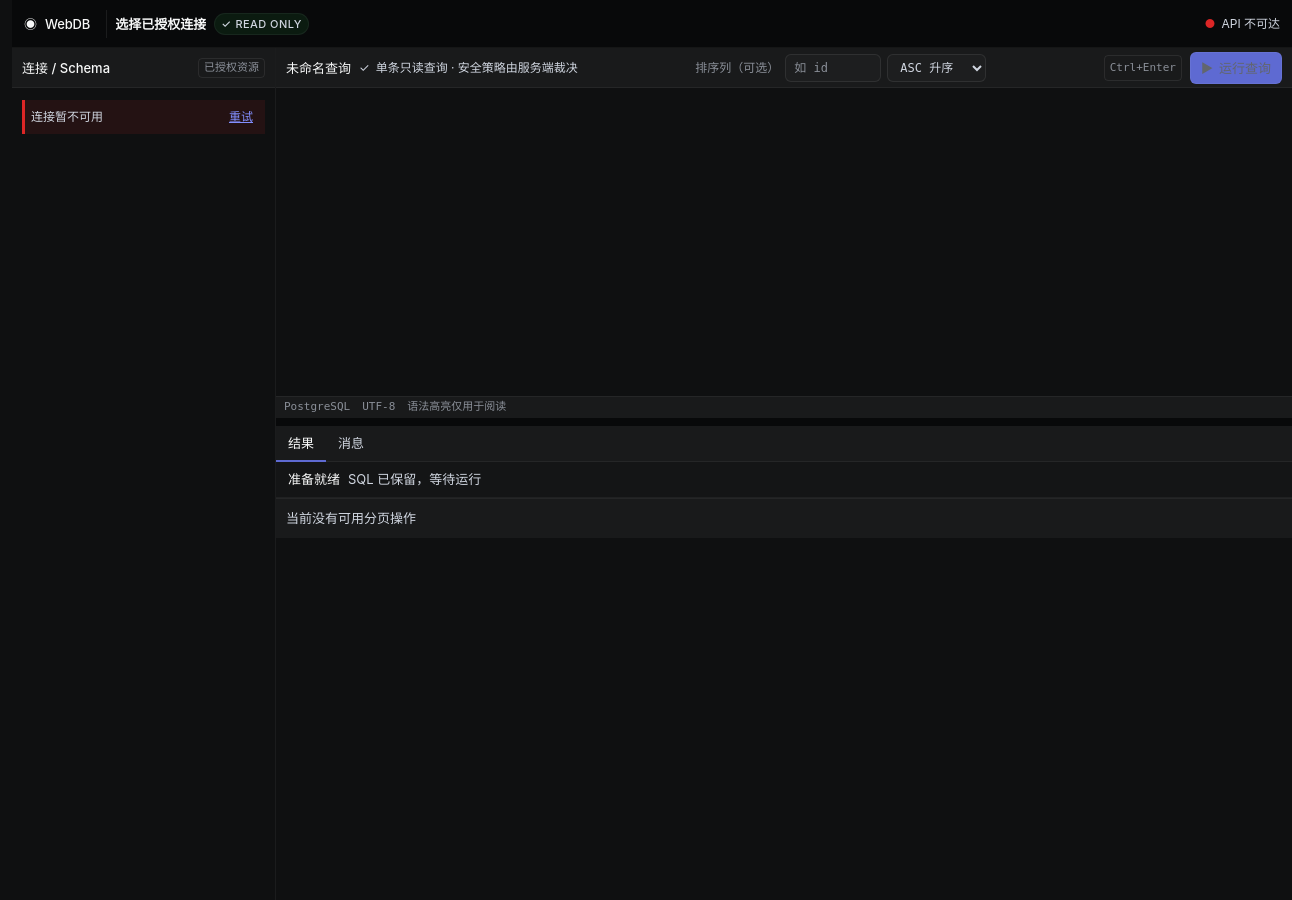
Scenario: P0 workbench › retries failed connection and schema loads without reloading the page
The image size is (1292, 900).
Click the button "重试". click: [241, 117]
box: [223,106,259,128]
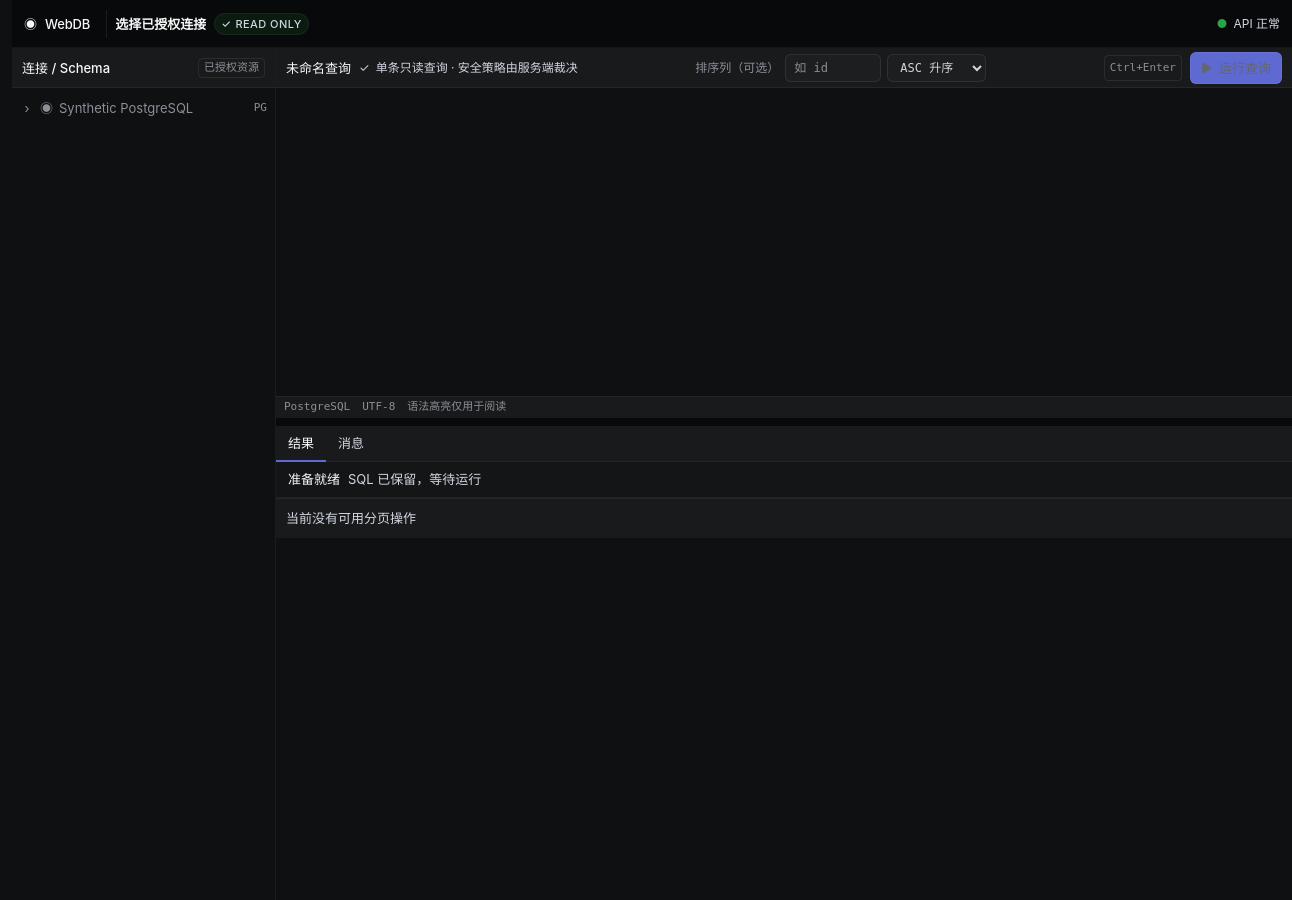
Click the list item "› ◉ Synthetic PostgreSQL PG". click: [144, 108]
box: [12,94,275,122]
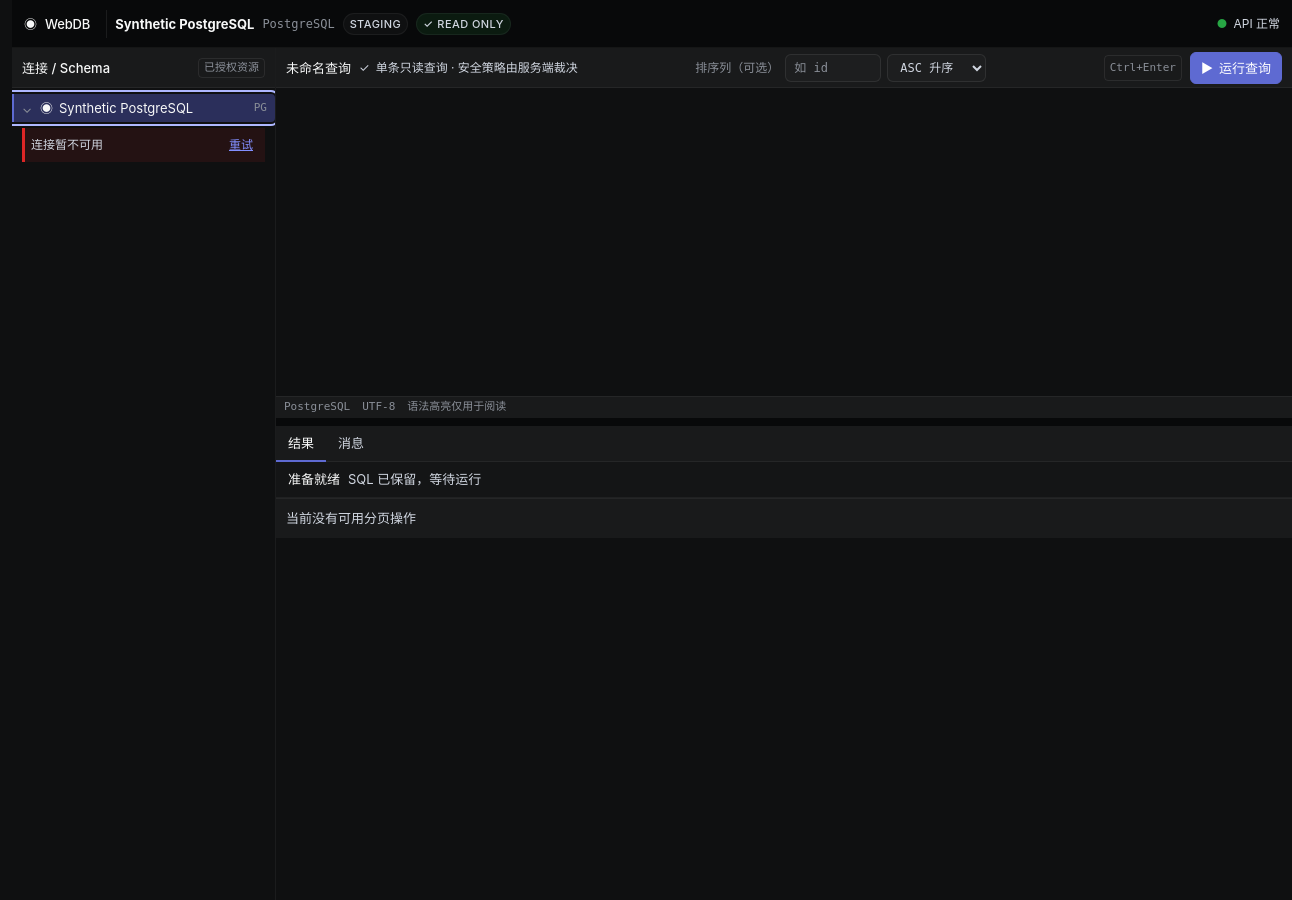
Click the button "重试". click: [241, 145]
box: [223,134,259,156]
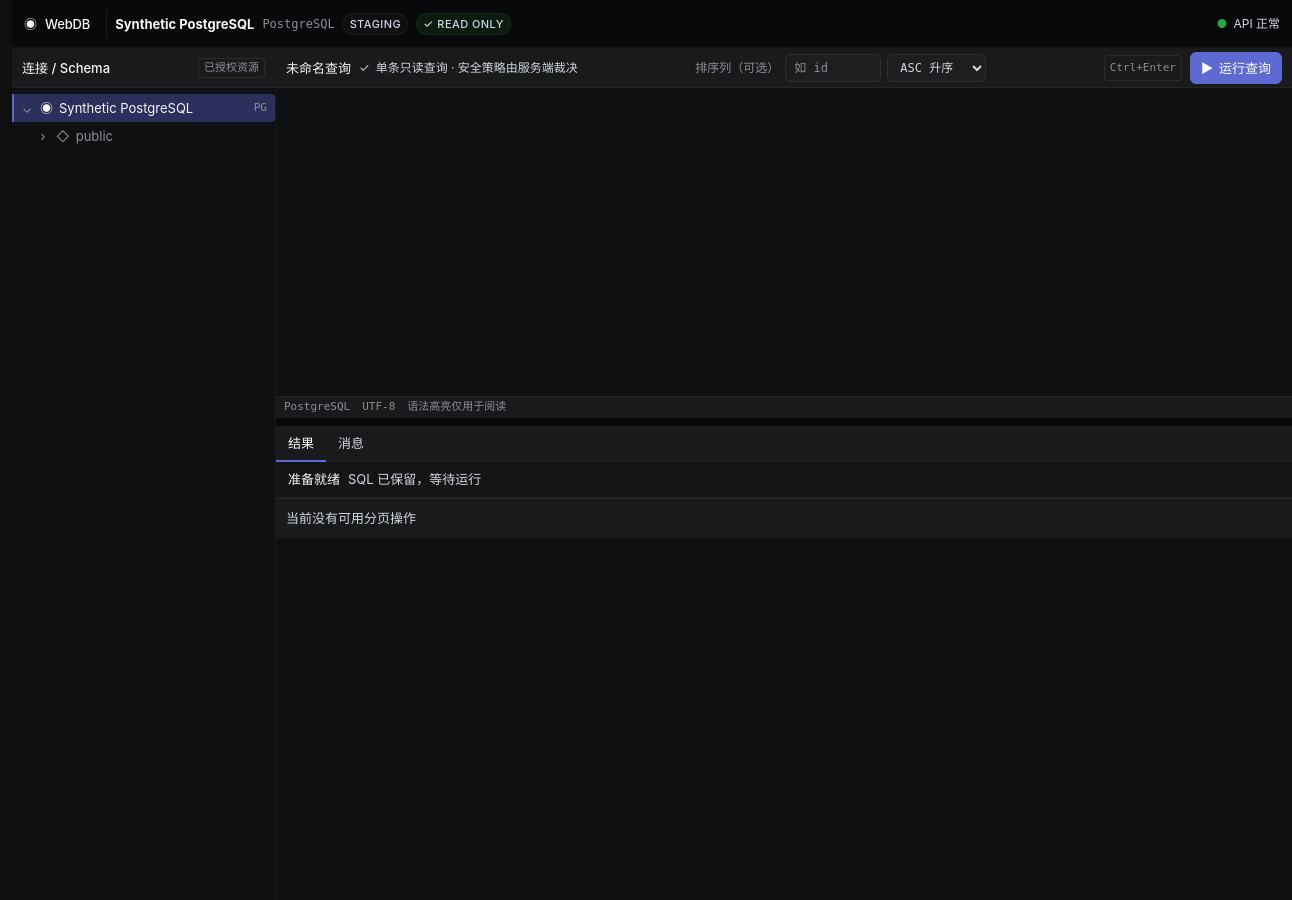
expect the list item "public" is shown: met, box [12,122,275,150]
